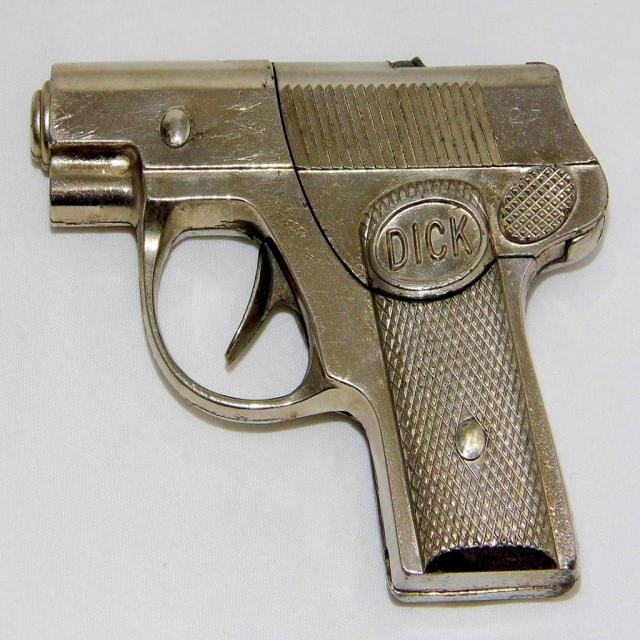gun: (32, 51, 628, 600)
